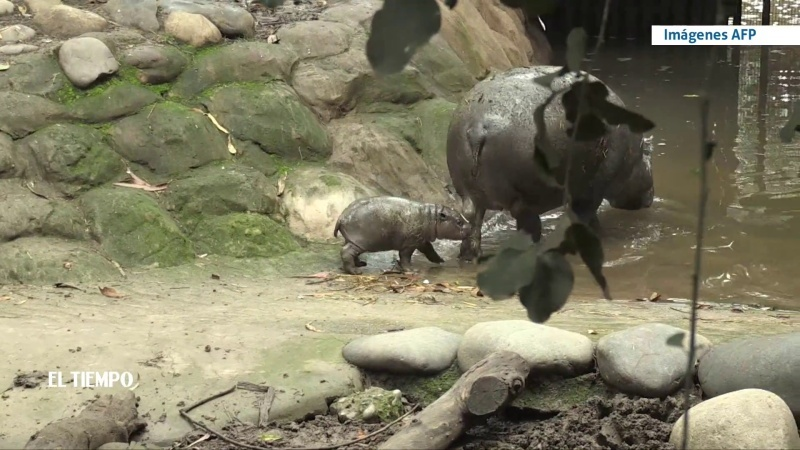hipopotamo: (441, 54, 672, 248), (319, 167, 480, 287)
